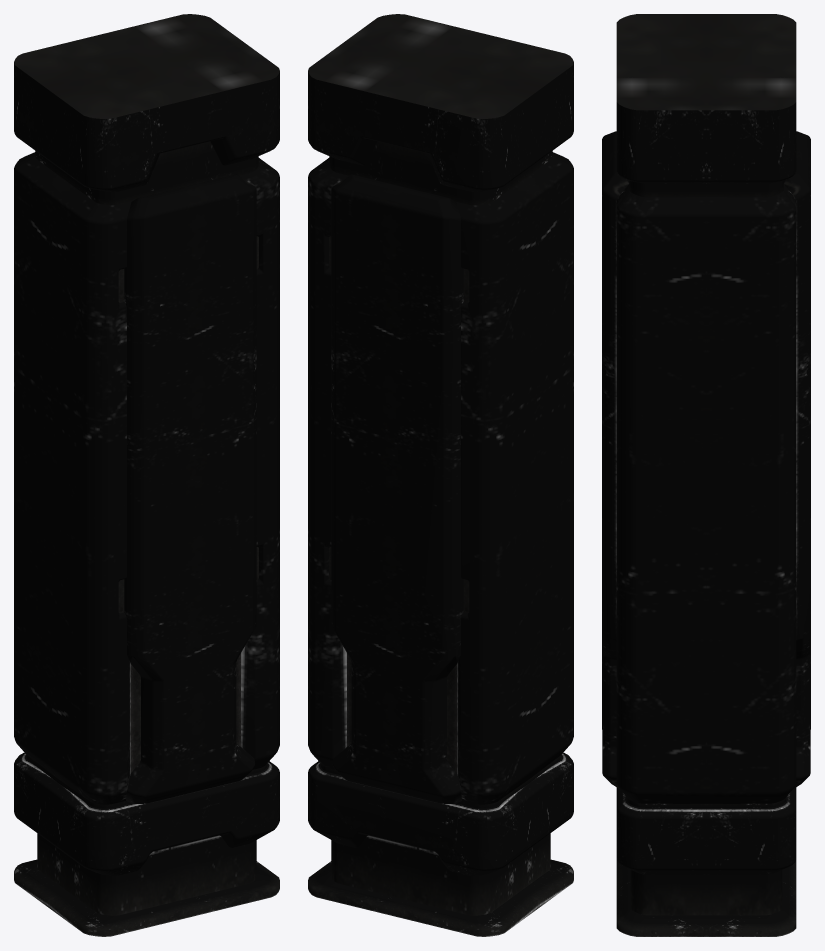
Rendered from SM_Wall_Partition_B.FBX.
3 renders of one model, left to right at view 1: azimuth 30°, elevation 25°; view 2: azimuth 150°, elevation 25°; view 3: azimuth 270°, elevation 25°, orthographic.
Visible parts, largest first — view 1: SM_Wall_Partition_B; view 2: SM_Wall_Partition_B; view 3: SM_Wall_Partition_B.
Part boxes in pixels (bbox=[...]): SM_Wall_Partition_B: bbox=[14, 14, 279, 936]; SM_Wall_Partition_B: bbox=[308, 14, 573, 936]; SM_Wall_Partition_B: bbox=[602, 14, 810, 936].
Bounding box in the file's own units: 100 × 400 × 91.63.
1 material, 1 textured.
